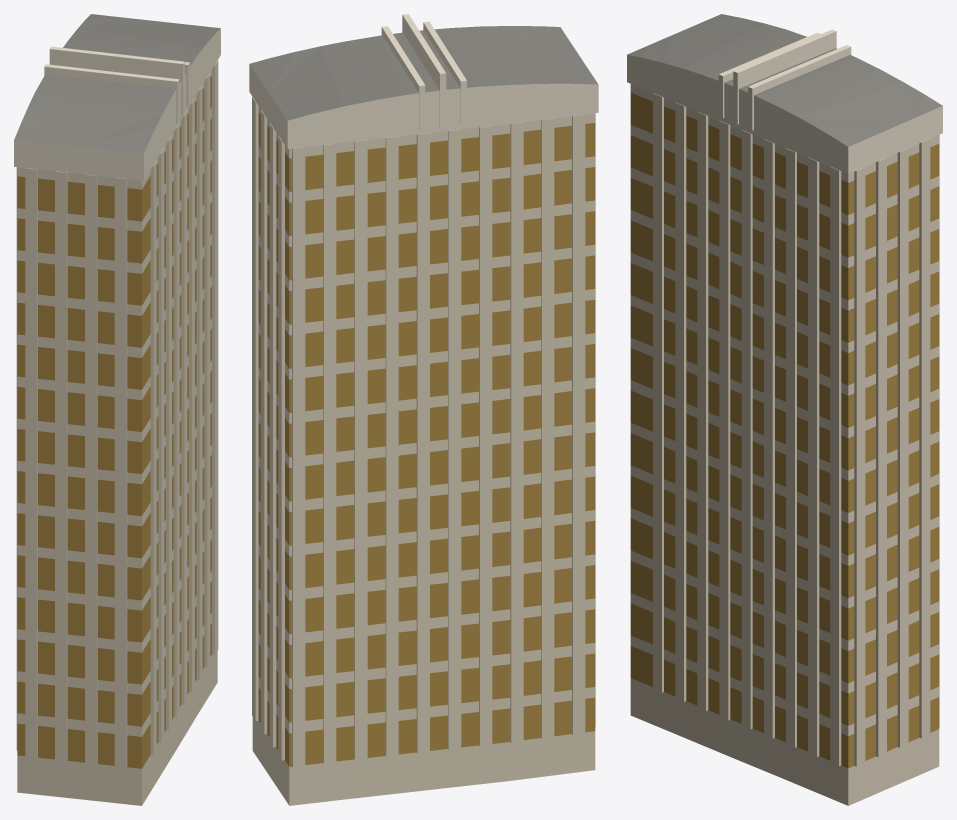
The model's file is the_signature_at_mgm_g_w95223232.glb.
The picture shows the model from 3 angles, left to right: view 1: azimuth 30°, elevation 25°; view 2: azimuth 150°, elevation 25°; view 3: azimuth 270°, elevation 25°; orthographic projection. The views are drawn at different scales.
Parts seen in each view (by area): view 1: Tower; view 2: Tower; view 3: Tower.
Boxes of the visible parts, bbox=[...] form: Tower: bbox=[14, 14, 220, 805]; Tower: bbox=[249, 14, 598, 805]; Tower: bbox=[627, 14, 942, 805].
Size of the model in its own units: 60.78 by 147 by 61.03.
